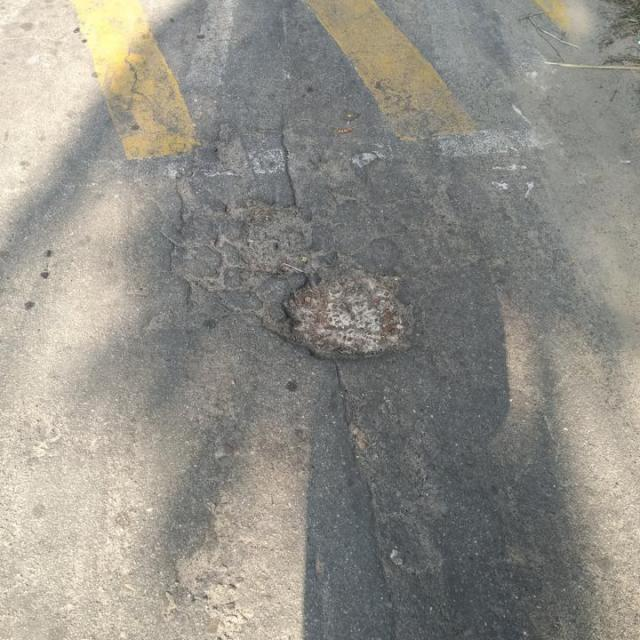pothole: (278, 262, 422, 364), (229, 197, 321, 276)
